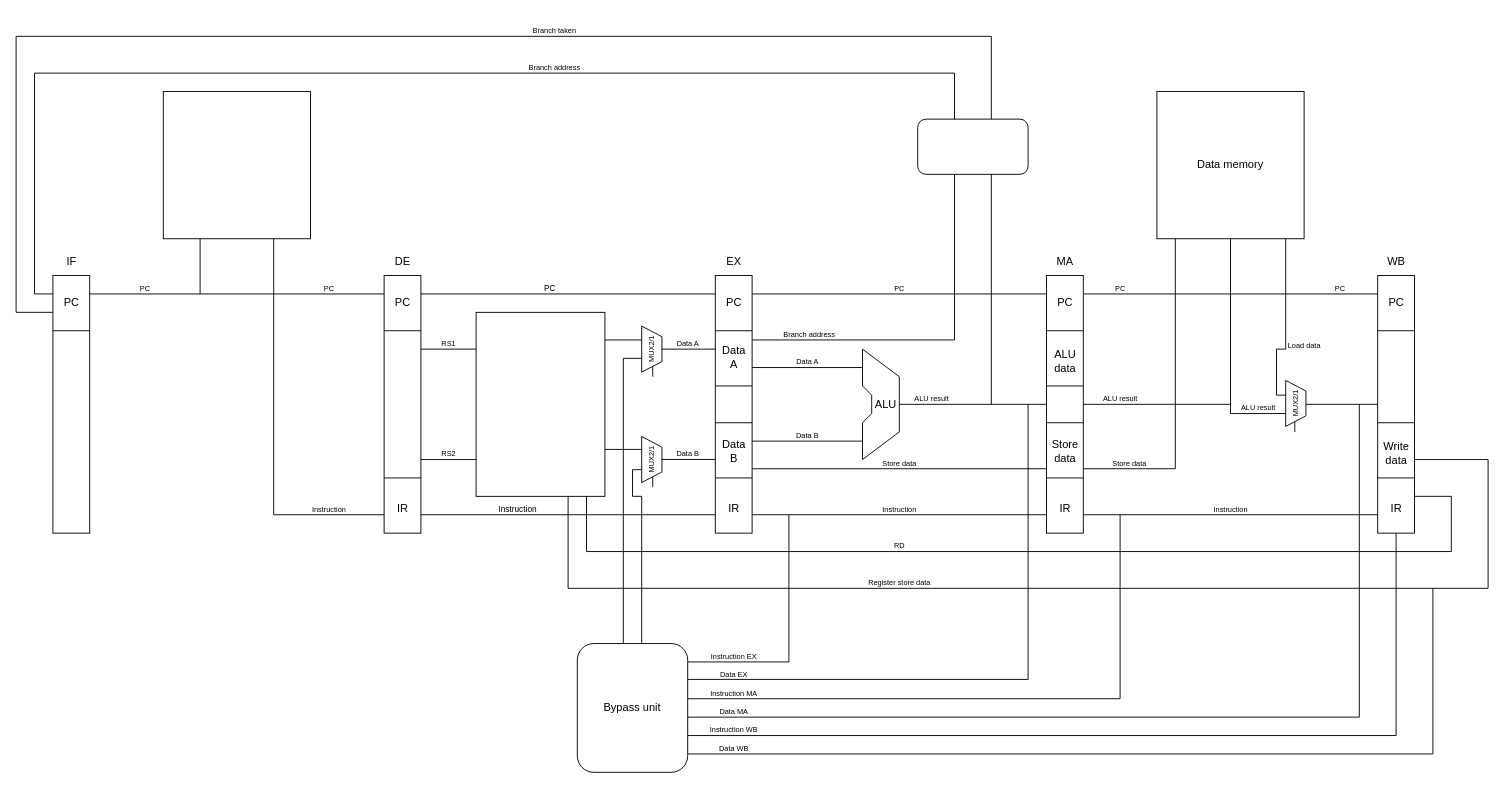
Some shapes in this 1505 by 788 pixel diagram are drawn without their labels. Here are the shapes that lost their labels. From the top down, the centre of each, then its label:
(236,165): Instruction memory
(972,146): Branch unit
(540,403): Register unit
